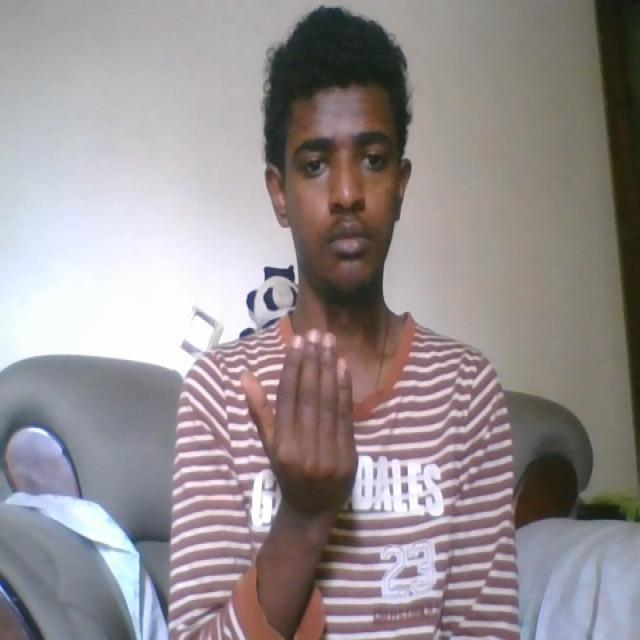na: (243, 331, 357, 522)
